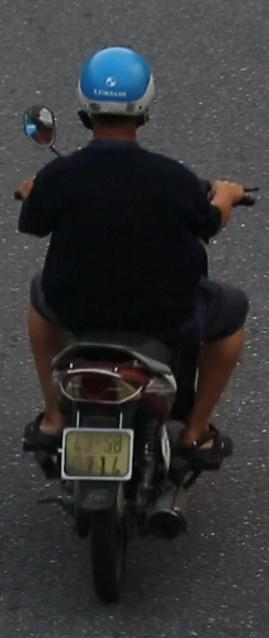LP: (56, 421, 138, 483)
helmet: (69, 40, 162, 152)
